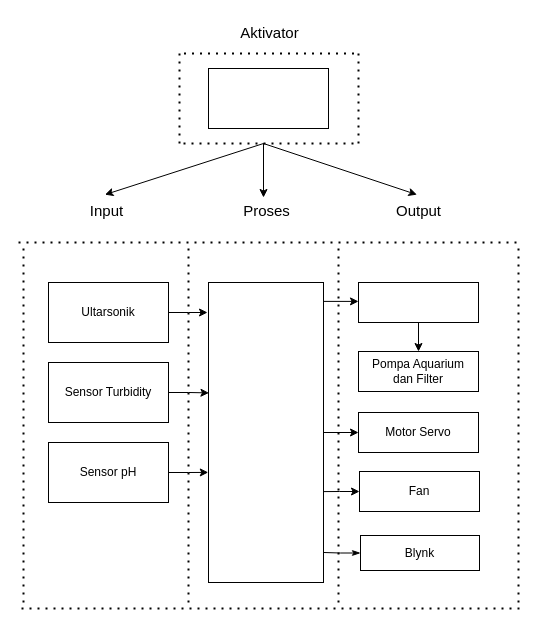
The diagram is 540 pixels wide and 627 high, and some of its shapes have lost their labels. Each missing label, with the centre of its shape:
"Adaptor DC 12V Powerbank 5V Steker 220V" goes at point 268,98.
"NODEMCU ESP32" goes at point 266,432.
"Relay" goes at point 418,302.
